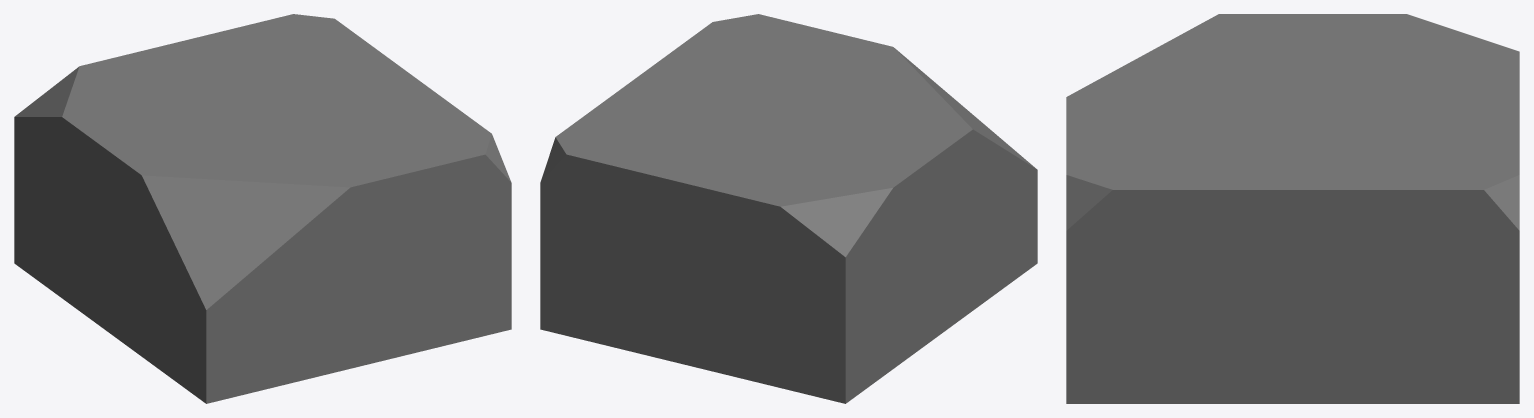
Rendered from Tile_01.fbx.
3 renders of one model, left to right at view 1: azimuth 30°, elevation 25°; view 2: azimuth 150°, elevation 25°; view 3: azimuth 270°, elevation 25°, orthographic. The views are drawn at different scales.
Parts seen in each view (by area): view 1: Tile_01_LOD0; view 2: Tile_01_LOD0; view 3: Tile_01_LOD0.
Part boxes in pixels (left/top/right/bottom): Tile_01_LOD0: left=14, top=14, right=511, bottom=403; Tile_01_LOD0: left=540, top=14, right=1037, bottom=403; Tile_01_LOD0: left=1066, top=14, right=1519, bottom=403.
Size of what is drawn, in the model's own units: 0.2821 by 0.1601 by 0.3072.
